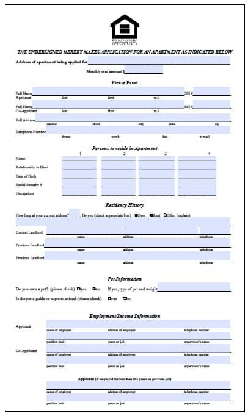checkbox: (106, 296, 112, 301), (121, 296, 127, 301), (91, 286, 96, 291), (76, 287, 80, 292)
textline: (46, 124, 232, 137), (35, 112, 233, 124), (43, 237, 232, 249), (45, 330, 232, 342), (15, 218, 233, 228), (45, 343, 232, 354), (45, 226, 231, 237), (44, 252, 231, 262), (45, 319, 232, 329), (45, 381, 232, 391), (88, 54, 231, 67), (32, 99, 185, 110), (45, 357, 232, 366), (32, 86, 186, 96), (45, 395, 231, 403), (156, 283, 232, 294), (192, 86, 232, 97), (191, 99, 231, 110), (176, 162, 218, 172), (176, 171, 218, 181), (137, 162, 176, 172), (99, 162, 137, 172), (60, 170, 98, 180), (123, 66, 165, 75), (176, 154, 217, 163), (59, 162, 99, 171), (137, 189, 176, 198), (60, 188, 98, 197), (99, 171, 136, 180), (100, 189, 137, 198), (137, 172, 177, 180), (177, 190, 217, 198), (60, 154, 98, 162), (99, 154, 137, 162), (60, 180, 97, 188), (176, 182, 217, 189), (137, 155, 176, 162), (137, 181, 176, 188), (99, 181, 137, 188), (68, 209, 80, 219)
